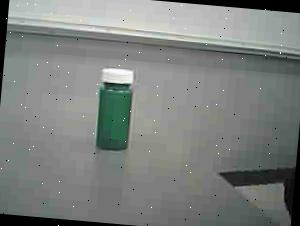Bottle C: (84, 58, 151, 161)
